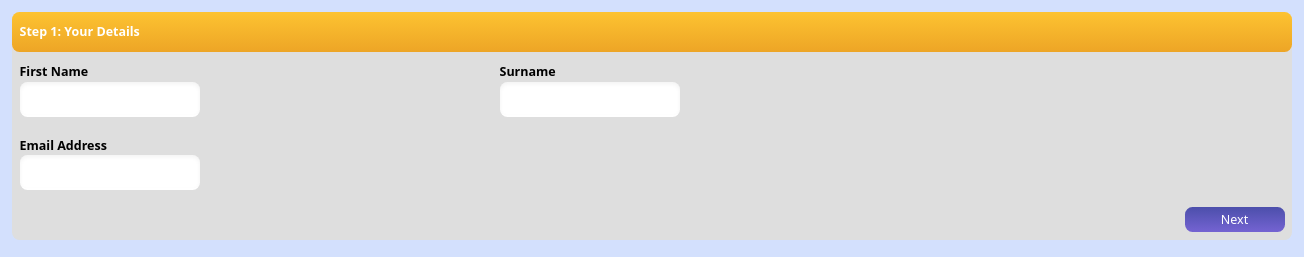
Test: <SectionOne/> › Initial state › if Button is clicked it should show error message
Step 1. Click the button "Next" → click(1234, 220), box [1184,207,1284,232]
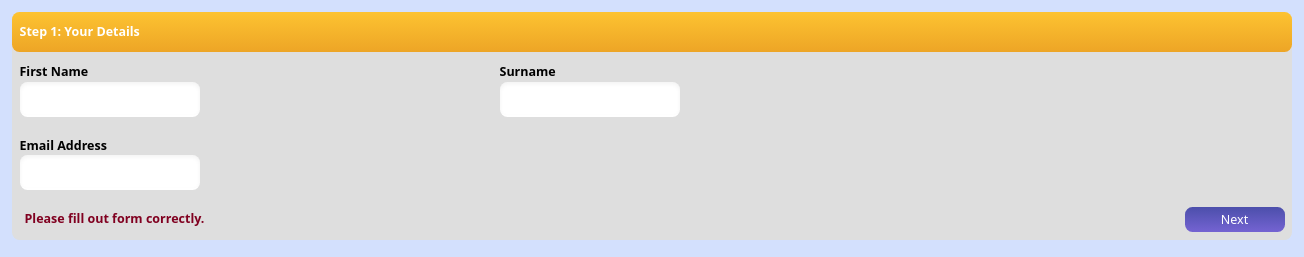
expect the text "Please fill out form correctly." is shown: met, box [24,210,204,227]
